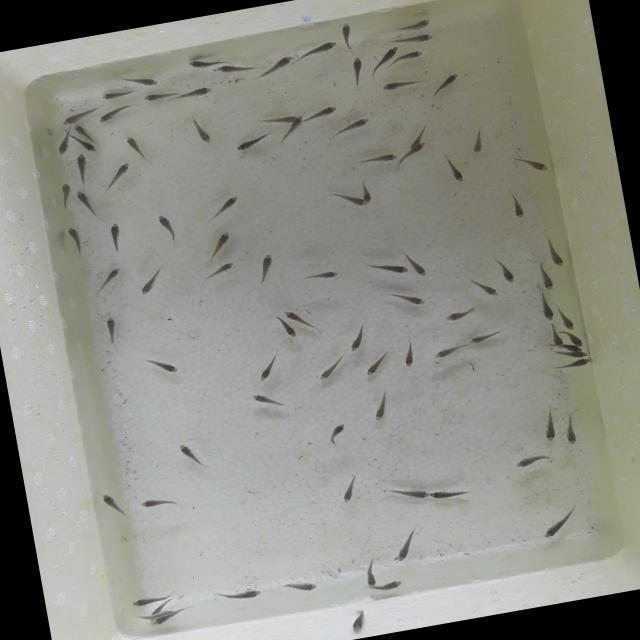fingerling: (534, 500, 584, 542), (210, 580, 268, 610), (334, 602, 378, 640), (96, 486, 136, 527), (270, 572, 322, 603), (378, 479, 430, 509), (388, 523, 425, 565), (382, 283, 429, 315), (138, 347, 182, 381), (250, 347, 286, 388), (506, 148, 552, 180), (132, 263, 171, 299), (137, 490, 186, 518), (310, 351, 350, 385), (202, 192, 243, 225), (534, 404, 564, 448), (440, 302, 484, 330), (392, 334, 422, 375), (202, 227, 237, 262), (509, 450, 556, 476), (175, 438, 208, 475), (428, 480, 478, 504), (328, 114, 374, 140), (332, 473, 366, 508), (368, 384, 396, 426), (362, 258, 411, 282), (358, 348, 393, 381), (100, 160, 136, 192), (440, 149, 468, 189), (250, 252, 280, 289), (154, 211, 184, 248), (466, 272, 502, 302), (188, 112, 218, 148), (101, 218, 128, 258), (465, 324, 508, 349), (379, 74, 430, 95), (294, 39, 338, 63), (427, 70, 466, 97), (426, 339, 468, 364), (196, 259, 238, 284), (256, 52, 296, 78), (542, 232, 568, 271), (504, 186, 530, 225), (343, 319, 370, 356), (92, 264, 125, 294), (393, 29, 440, 50), (558, 408, 582, 449), (231, 130, 272, 154), (248, 387, 284, 414), (56, 105, 100, 127), (494, 252, 520, 288), (534, 288, 559, 325), (94, 105, 138, 126), (298, 266, 344, 286), (388, 16, 434, 36), (465, 124, 492, 158), (72, 151, 95, 190), (185, 52, 229, 72), (121, 70, 161, 92), (323, 418, 352, 448), (215, 58, 258, 78), (357, 148, 399, 168), (534, 258, 558, 292), (52, 180, 77, 212), (347, 54, 369, 90), (124, 132, 150, 162), (64, 223, 86, 258), (75, 188, 99, 220), (406, 249, 430, 280), (360, 554, 380, 590), (102, 313, 122, 348), (336, 20, 356, 55), (98, 86, 138, 103), (555, 301, 576, 333), (180, 82, 217, 100), (552, 357, 593, 372), (127, 592, 160, 610), (140, 88, 177, 104), (309, 102, 339, 120), (547, 322, 564, 350), (398, 48, 426, 64), (378, 578, 407, 593), (282, 323, 302, 342), (283, 306, 303, 324), (54, 137, 72, 157), (71, 122, 91, 140), (360, 180, 374, 203), (383, 44, 400, 61), (81, 140, 98, 156), (290, 113, 308, 128), (149, 614, 170, 626), (349, 195, 366, 208), (413, 140, 428, 154), (571, 334, 585, 348), (572, 350, 590, 360), (568, 344, 583, 354)
